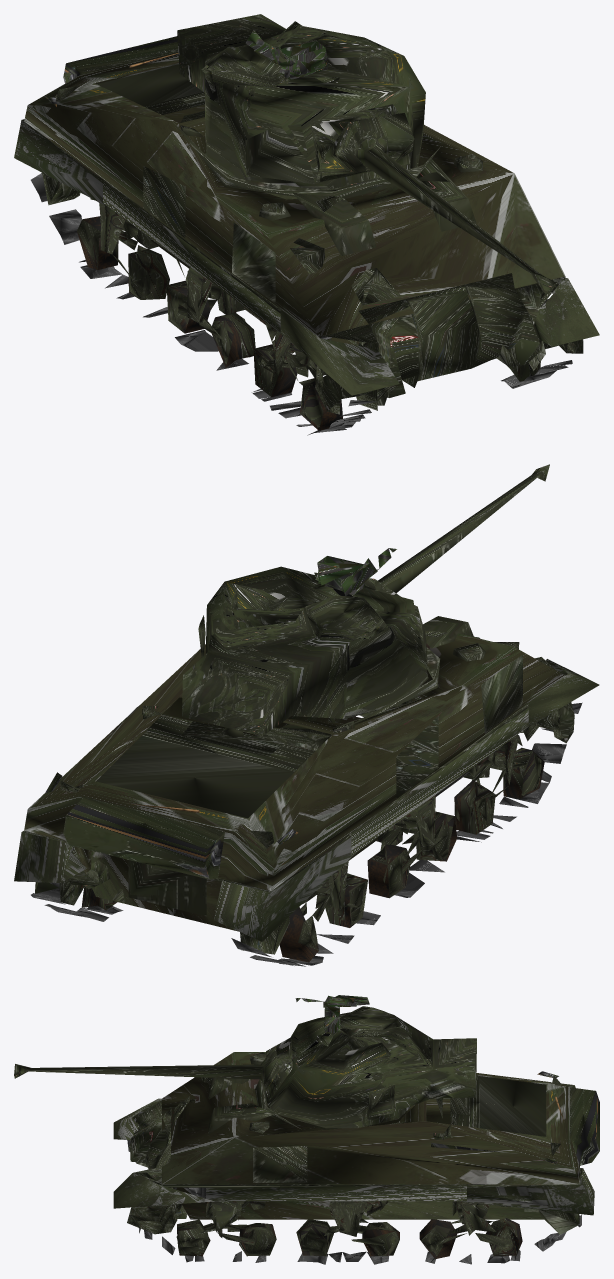
The model's file is sherman_vc_firefly_enkel.glb.
3 views of the same model, one above another, from view 1: azimuth 30°, elevation 25°; view 2: azimuth 150°, elevation 25°; view 3: azimuth 270°, elevation 25° (orthographic). The views are drawn at different scales.
Visible parts, largest first — view 1: Object_14, Object_4, Object_125, Object_127, Object_110, Object_307, Object_22, Object_305; view 2: Object_14, Object_125, Object_4, Object_127, Object_110, Object_22, Object_307, Object_305; view 3: Object_14, Object_125, Object_4, Object_110, Object_127, Object_22, Object_307, Object_305.
Boxes of the visible parts, x1,y1,x2,y2 form: Object_14: (24, 51, 565, 345); Object_4: (26, 64, 583, 414); Object_125: (177, 14, 555, 293); Object_127: (14, 119, 599, 395); Object_110: (77, 181, 540, 430); Object_307: (30, 173, 572, 435); Object_22: (44, 36, 178, 106); Object_305: (245, 30, 328, 79); Object_14: (24, 633, 565, 931); Object_125: (182, 464, 549, 751); Object_4: (25, 616, 574, 954); Object_127: (14, 659, 599, 941); Object_110: (81, 718, 544, 962); Object_22: (45, 705, 298, 879); Object_307: (31, 675, 582, 966); Object_305: (315, 548, 396, 596); Object_14: (162, 1052, 579, 1219); Object_125: (14, 1006, 476, 1128); Object_4: (127, 1052, 579, 1234); Object_110: (176, 1197, 522, 1258); Object_127: (113, 1098, 594, 1215); Object_22: (431, 1071, 599, 1165); Object_307: (127, 1111, 581, 1264); Object_305: (295, 995, 369, 1033).
Bounding box in the file's own units: 2.7 × 3.07 × 7.62.
Materials: 8 (8 with a texture image).
